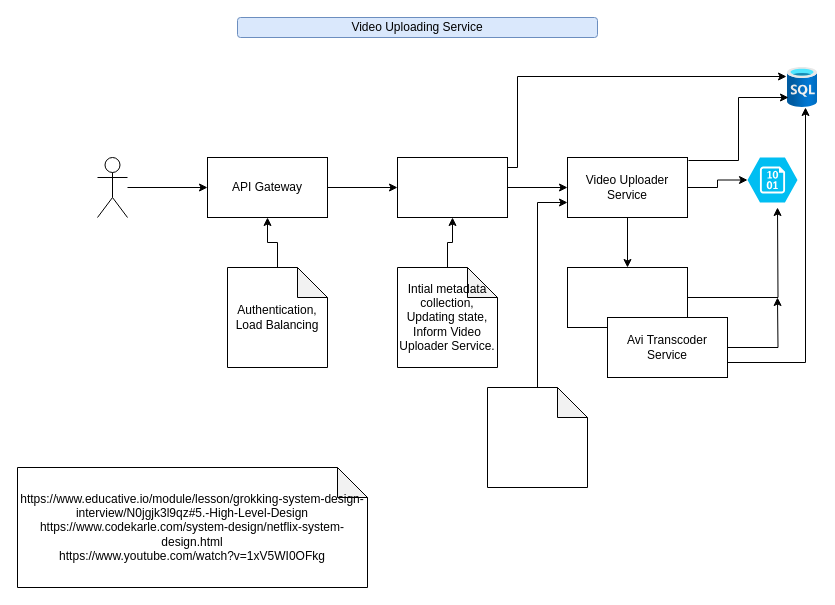
This 835x605 diagram has some shape labels left out. Here are the shapes that lost their labels. From the top down, the centre of each, then its label:
At pixel 112 187: "Actor".
At pixel 452 187: "Video Connector Service".
At pixel 627 297: "Mpeg Transcoder Service".
At pixel 537 437: "Extract detailed metadata , invoke different transcoder services".
